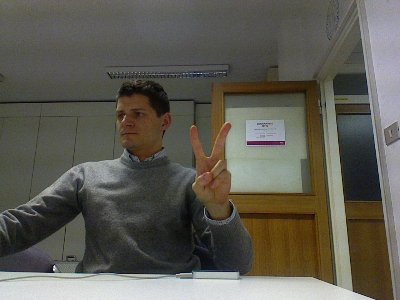剪刀: (188, 121, 232, 206)
